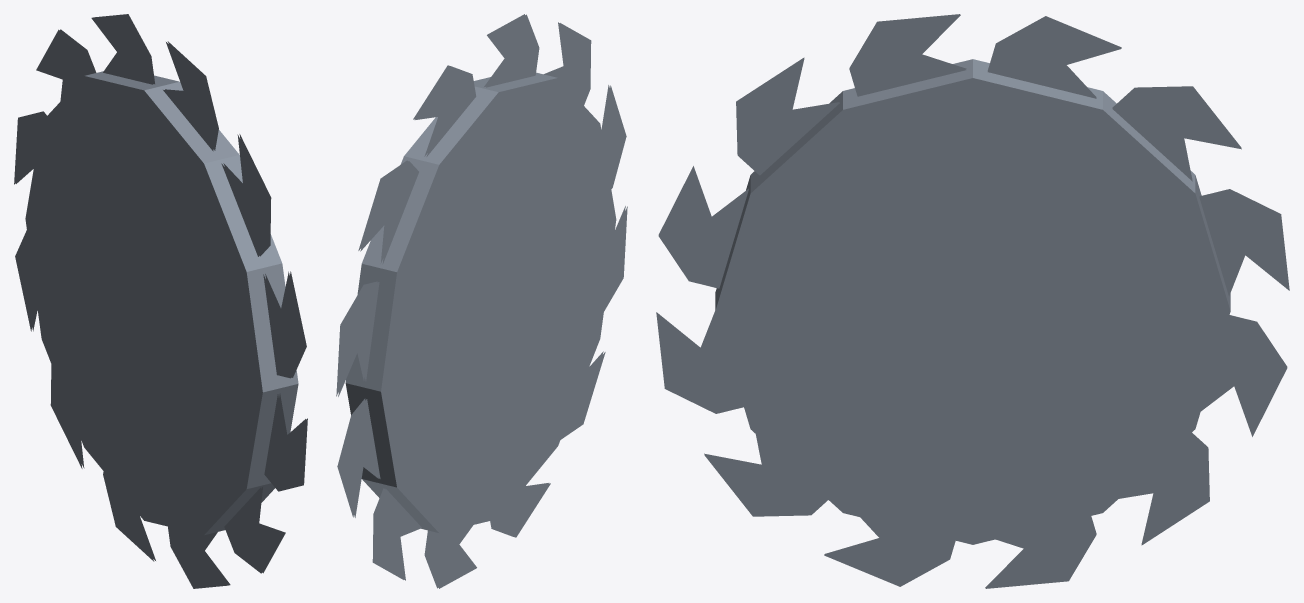
The model's file is sawblade.glb.
The picture shows the model from 3 angles, left to right: view 1: azimuth 30°, elevation 25°; view 2: azimuth 150°, elevation 25°; view 3: azimuth 270°, elevation 25°; orthographic projection. The views are drawn at different scales.
Parts seen in each view (by area): view 1: BezierCircle; view 2: BezierCircle; view 3: BezierCircle.
Part boxes in pixels (box(x1,y1,x2,y2)): BezierCircle: box(14, 14, 307, 588); BezierCircle: box(336, 14, 627, 588); BezierCircle: box(656, 14, 1289, 588).
Bounding box in the file's own units: 0.12 × 1.7 × 1.7.
